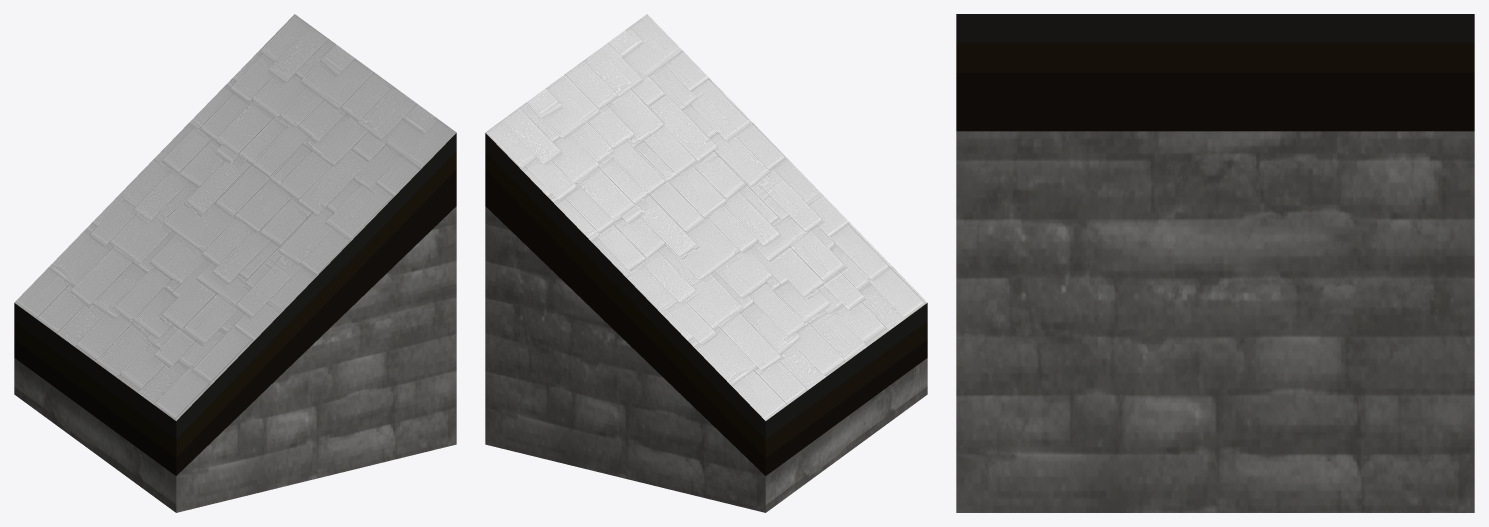
The picture shows the model from 3 angles, left to right: view 1: azimuth 30°, elevation 25°; view 2: azimuth 150°, elevation 25°; view 3: azimuth 270°, elevation 25°; orthographic projection. The views are drawn at different scales.
Visible parts, largest first — view 1: 617; view 2: 617; view 3: 617.
Boxes of the visible parts, x1,y1,x2,y2 form: 617: (14,14,456,512); 617: (485,14,927,512); 617: (956,14,1474,512).
Bounding box in the file's own units: 1.28 × 1.36 × 1.28.
Materials: 3 (2 with a texture image).
